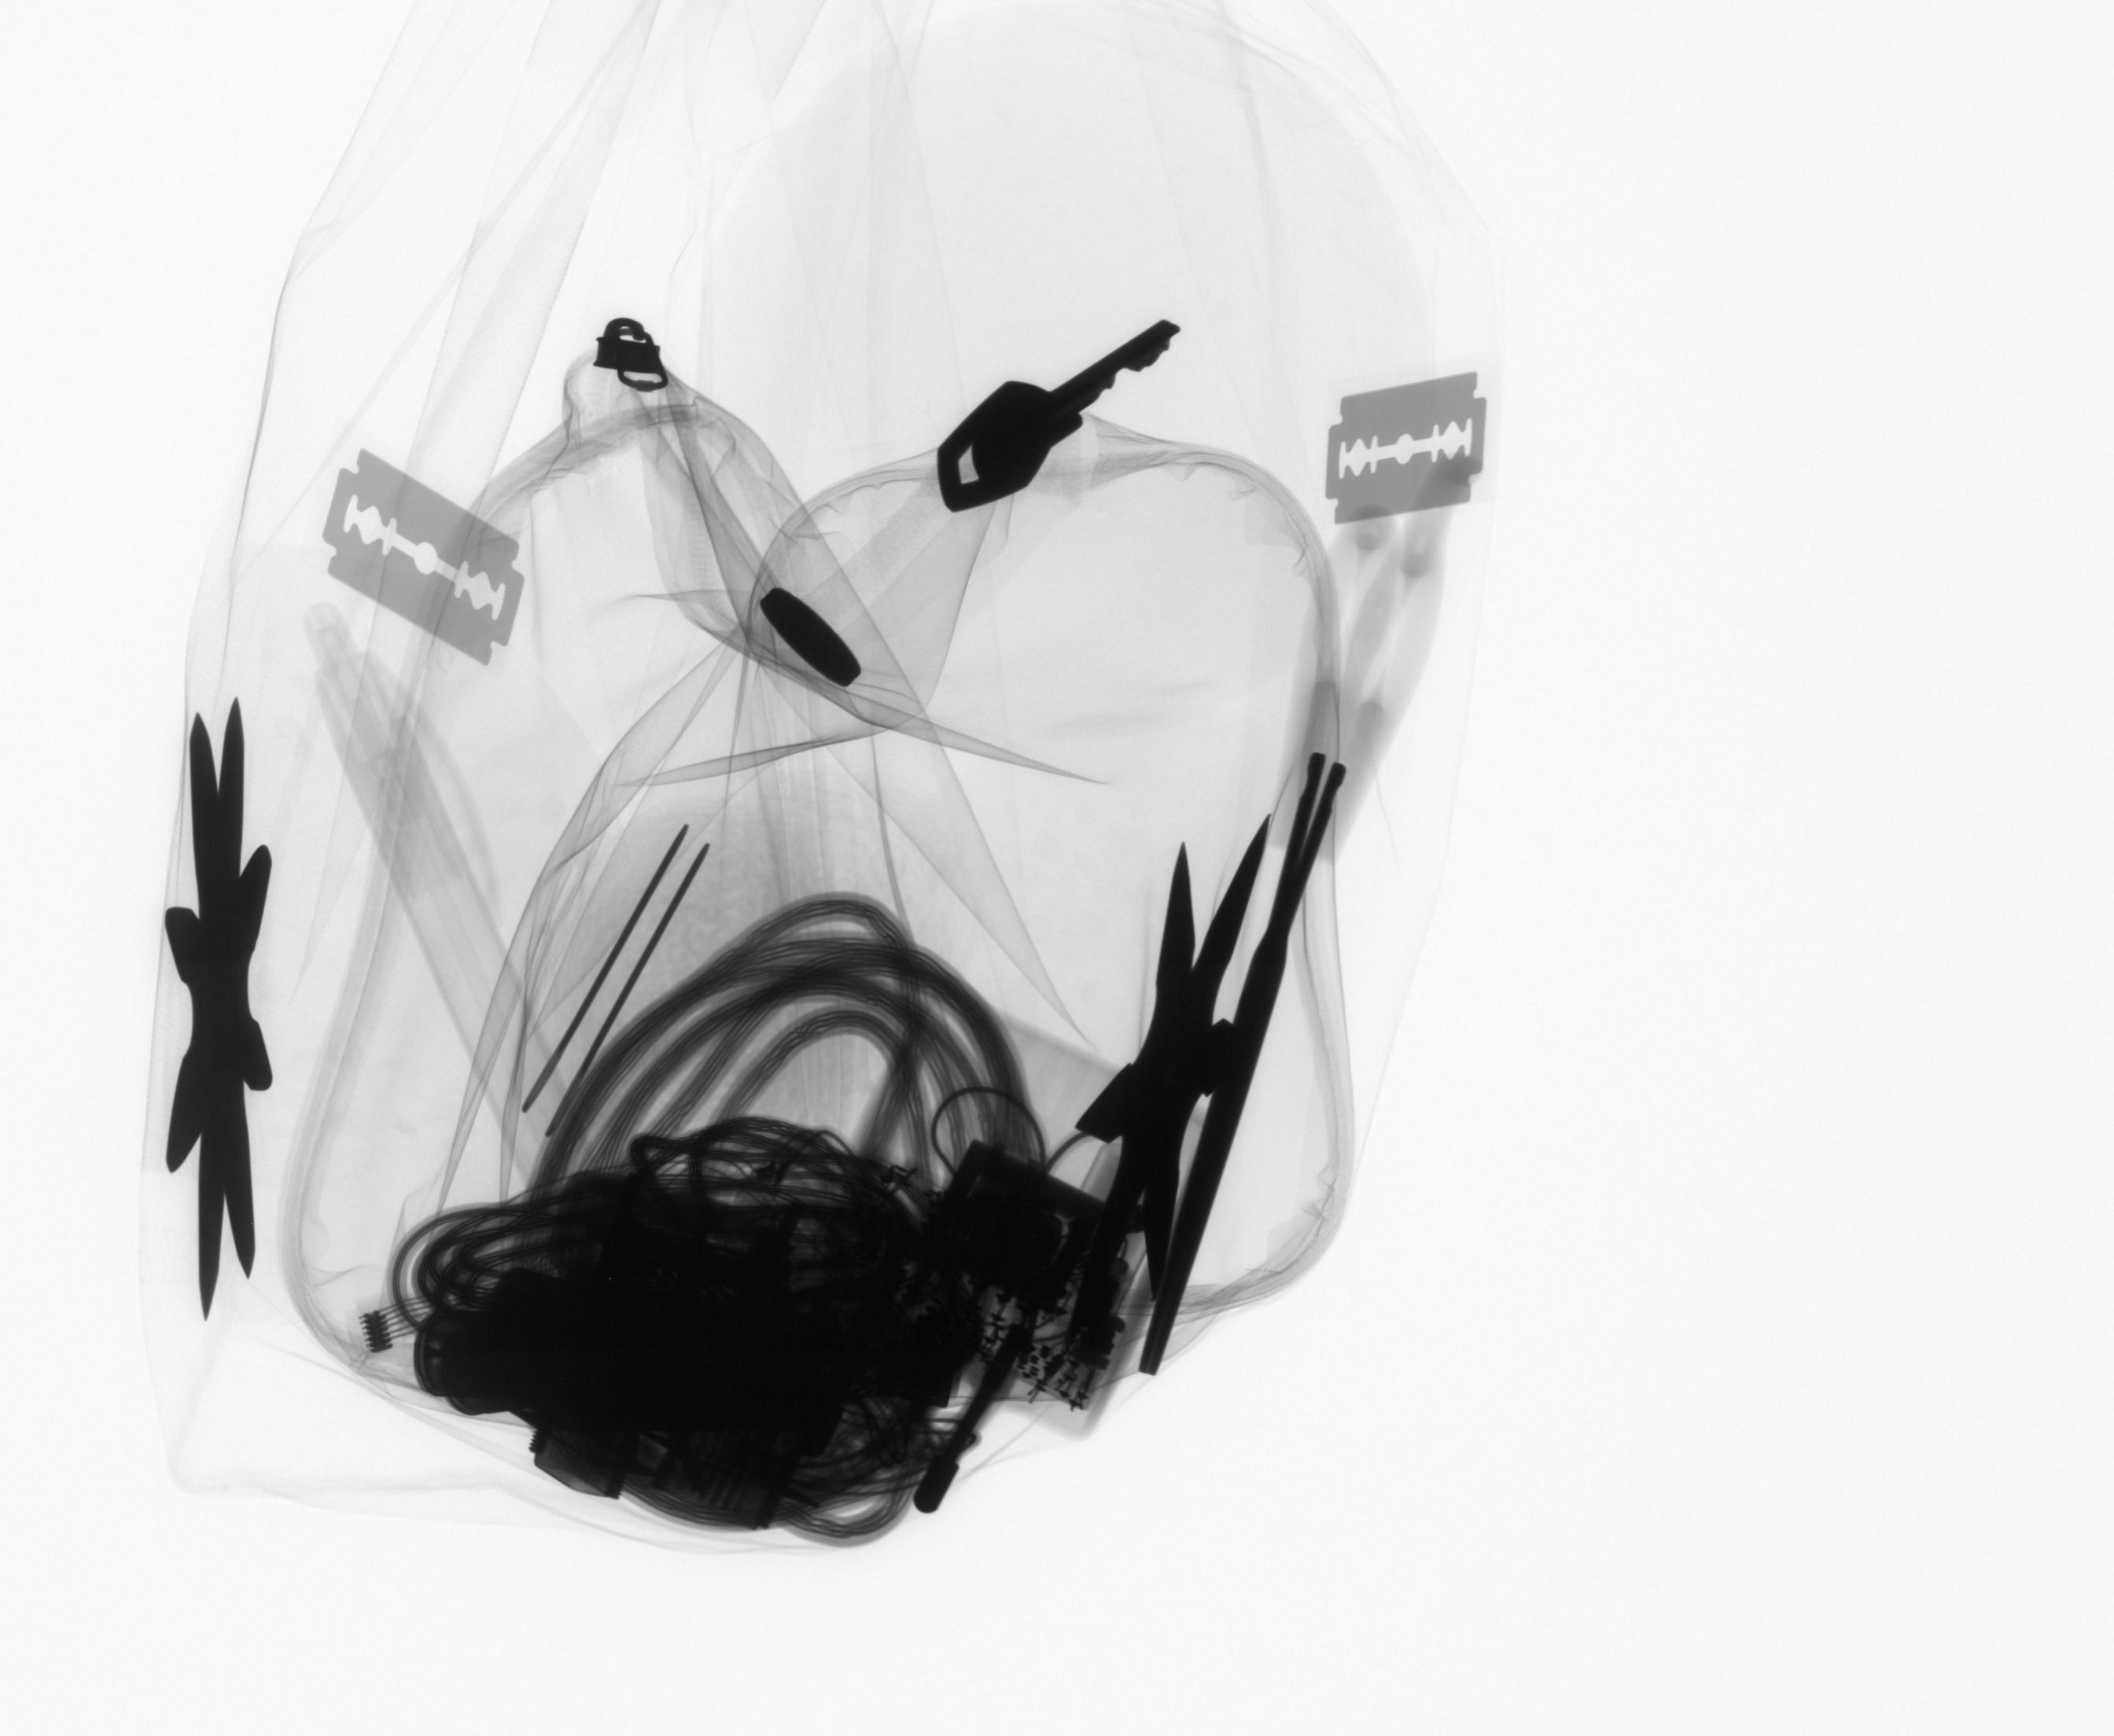RazorBlade: (314, 440, 533, 674), (1317, 363, 1493, 534)
Shuriken: (1069, 809, 1281, 1360), (154, 686, 289, 1330)
